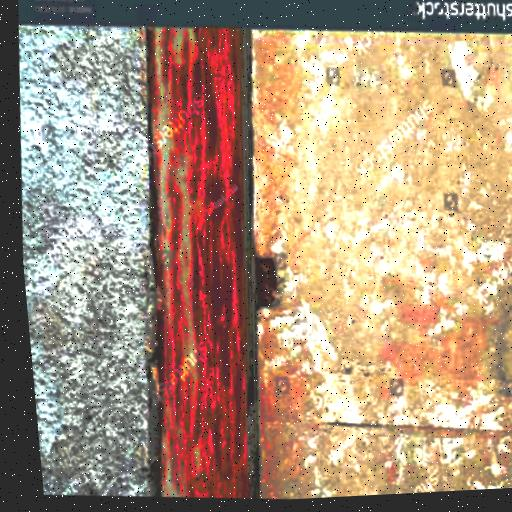corrosion: (114, 17, 288, 504)
